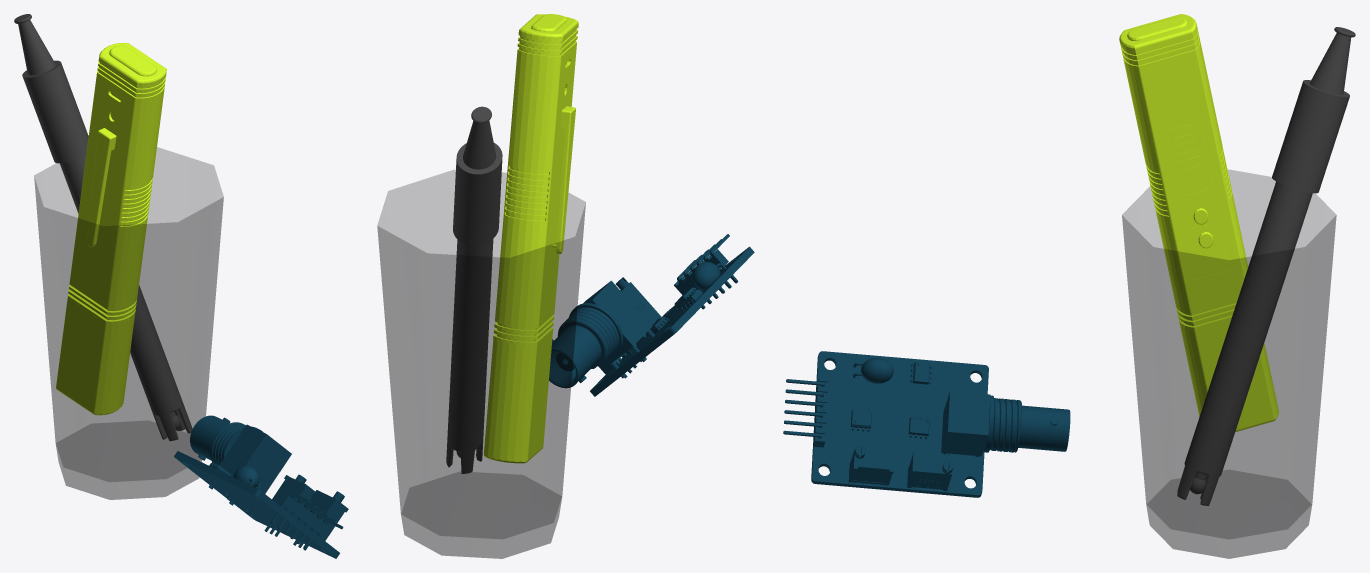
The picture shows the model from 3 angles, left to right: view 1: azimuth 30°, elevation 25°; view 2: azimuth 150°, elevation 25°; view 3: azimuth 270°, elevation 25°; orthographic projection. The views are drawn at different scales.
Parts seen in each view (by area): view 1: sercups_glass_Cylinder.108, node_id3, ph-4502c, ph_sonda v1; view 2: sercups_glass_Cylinder.108, node_id3, ph_sonda v1, ph-4502c; view 3: sercups_glass_Cylinder.108, node_id3, ph-4502c, ph_sonda v1.
Part boxes in pixels (<box>): sercups_glass_Cylinder.108: <box>34,147,223,499</box>; node_id3: <box>56,42,166,415</box>; ph-4502c: <box>174,415,348,558</box>; ph_sonda v1: <box>14,14,192,441</box>; sercups_glass_Cylinder.108: <box>377,170,585,558</box>; node_id3: <box>484,14,578,463</box>; ph_sonda v1: <box>446,106,502,473</box>; ph-4502c: <box>549,234,754,396</box>; sercups_glass_Cylinder.108: <box>1122,170,1336,558</box>; node_id3: <box>1119,14,1278,431</box>; ph-4502c: <box>783,351,1070,497</box>; ph_sonda v1: <box>1177,27,1355,505</box>.
Size of the model in its own units: 1.74 by 4.35 by 4.63.
4 materials, 1 textured.
